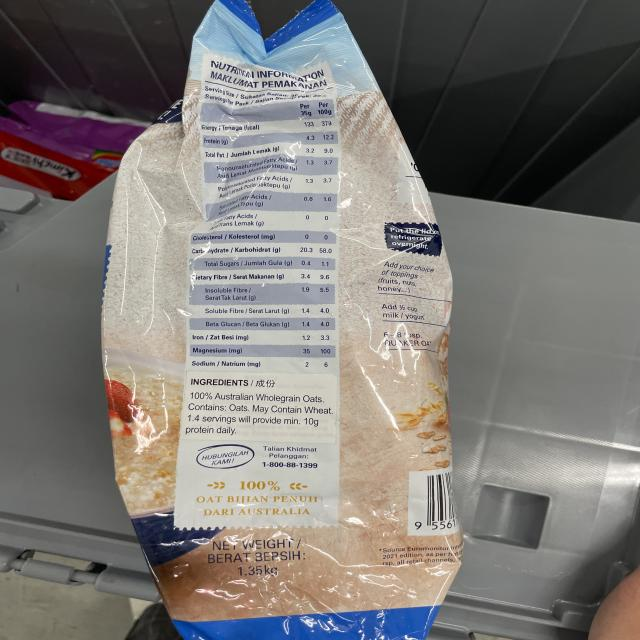object_name: (129, 46, 457, 621)
